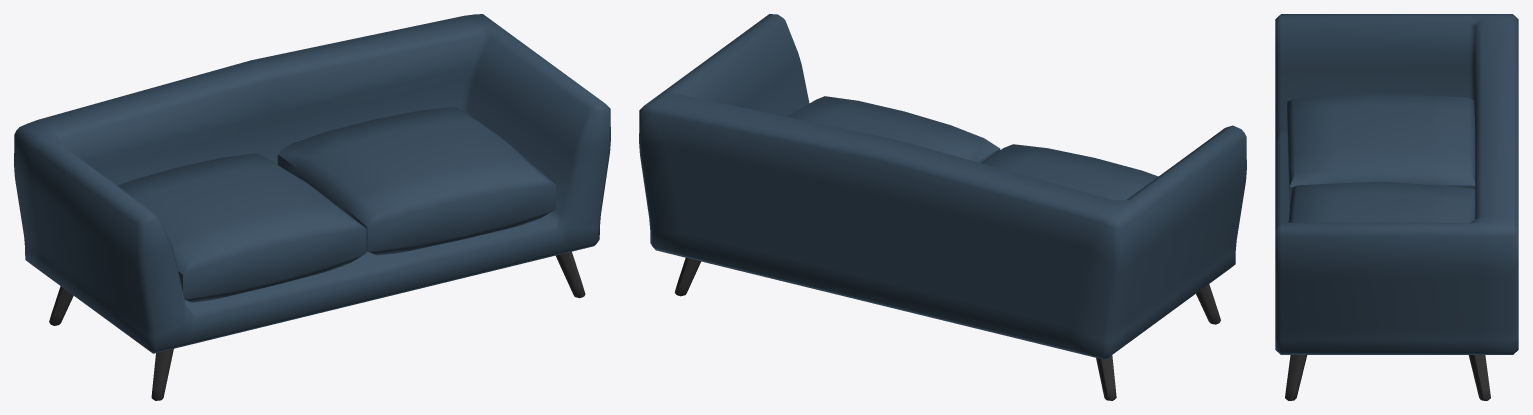
The model's file is Couch_Medium.gltf.
3 renders of one model, left to right at view 1: azimuth 30°, elevation 25°; view 2: azimuth 150°, elevation 25°; view 3: azimuth 270°, elevation 25°, orthographic. The views are drawn at different scales.
Parts seen in each view (by area): view 1: Couch_Medium1; view 2: Couch_Medium1; view 3: Couch_Medium1.
Part boxes in pixels (<box>): Couch_Medium1: <box>14,14,610,400</box>; Couch_Medium1: <box>639,14,1246,400</box>; Couch_Medium1: <box>1275,14,1518,400</box>.
Bounding box in the file's own units: 4.69 × 1.91 × 2.2.
